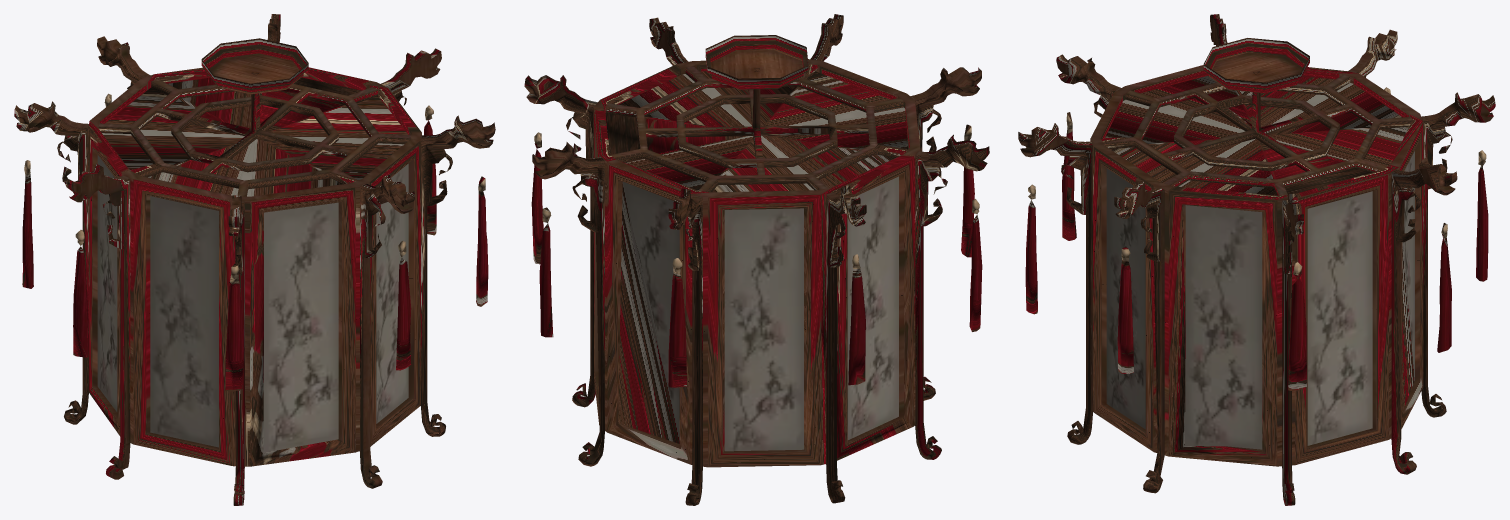
The model's file is chinese_chandelier.glb.
The picture shows the model from 3 angles, left to right: view 1: azimuth 30°, elevation 25°; view 2: azimuth 150°, elevation 25°; view 3: azimuth 270°, elevation 25°; orthographic projection.
Parts seen in each view (by area): view 1: chinese_chandelier; view 2: chinese_chandelier; view 3: chinese_chandelier.
Boxes of the visible parts, x1,y1,x2,y2 form: chinese_chandelier: (14,14,495,505); chinese_chandelier: (524,14,989,505); chinese_chandelier: (1018,14,1495,505).
Bounding box in the file's own units: 0.8777 × 0.7482 × 0.878.
Materials: 1 (1 with a texture image).
